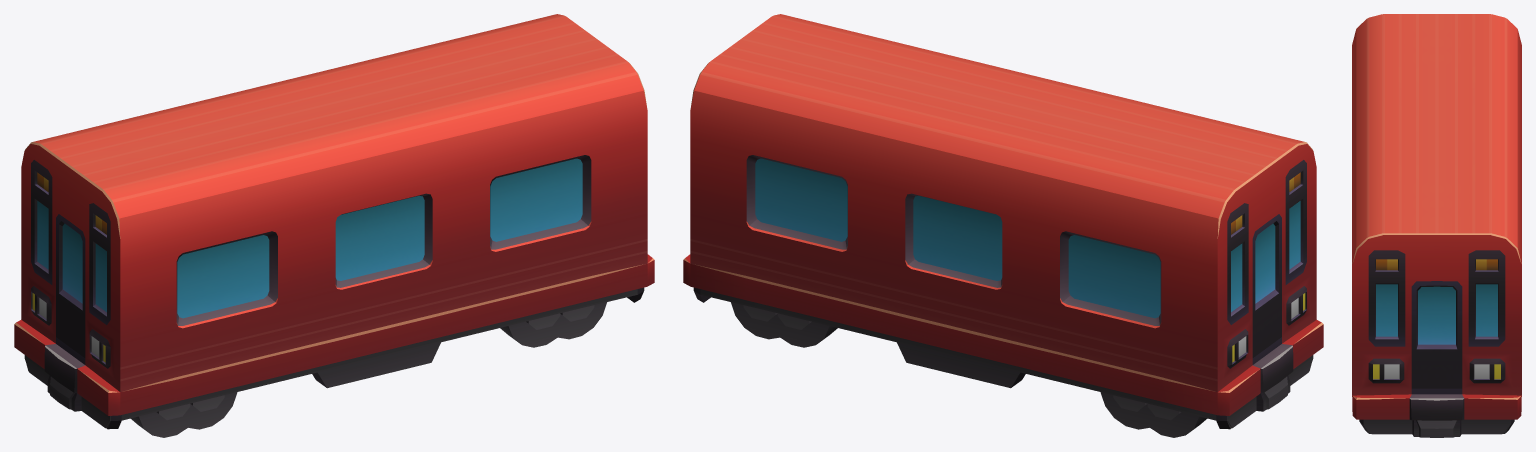
The model's file is Train_2.fbx.
3 renders of one model, left to right at view 1: azimuth 30°, elevation 25°; view 2: azimuth 150°, elevation 25°; view 3: azimuth 270°, elevation 25°, orthographic. The views are drawn at different scales.
Visible parts, largest first — view 1: Train_2; view 2: Train_2; view 3: Train_2.
Part boxes in pixels (box(x1,y1,x2,y2)): Train_2: box(14, 14, 654, 437); Train_2: box(683, 14, 1323, 437); Train_2: box(1352, 14, 1521, 437).
Bounding box in the file's own units: 654 × 290 × 203.
